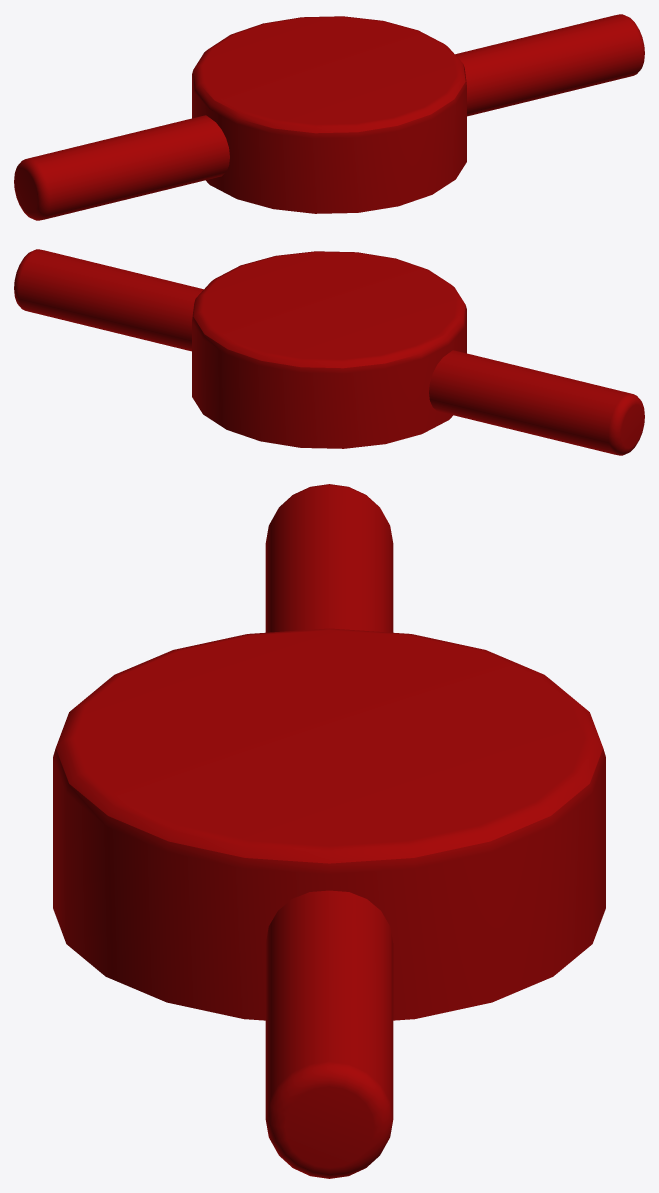
Rendered from Saw_A_Double.fbx.
3 renders of one model, top to bottom at view 1: azimuth 30°, elevation 25°; view 2: azimuth 150°, elevation 25°; view 3: azimuth 270°, elevation 25°, orthographic. The views are drawn at different scales.
Parts seen in each view (by area): view 1: Saw_A_Double; view 2: Saw_A_Double; view 3: Saw_A_Double.
Boxes of the visible parts, bbox=[...] form: Saw_A_Double: bbox=[14, 14, 644, 220]; Saw_A_Double: bbox=[14, 249, 644, 455]; Saw_A_Double: bbox=[53, 484, 605, 1178].
Bounding box in the file's own units: 149 × 19.99 × 59.07.
